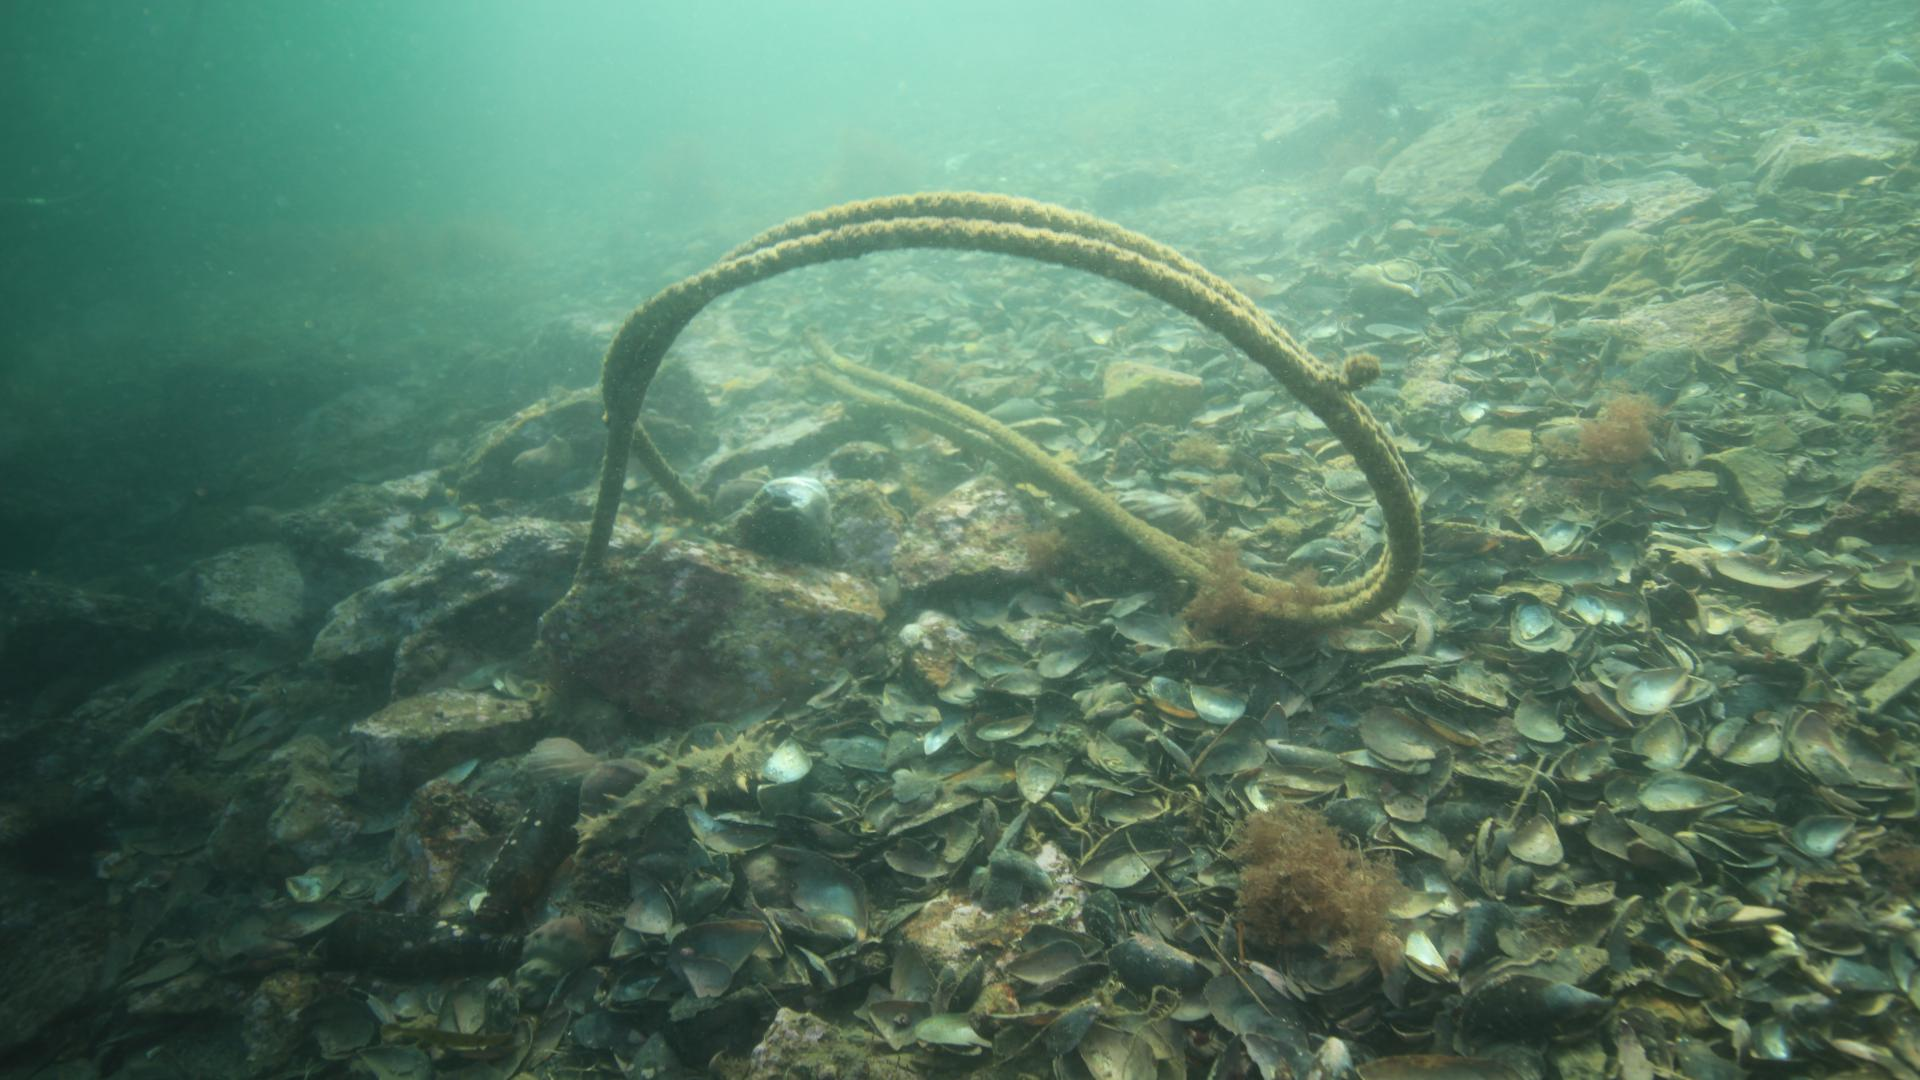bundle of ropes: (556, 187, 1427, 642)
